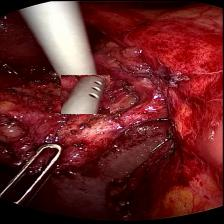Grasper: (1, 140, 64, 202)
Irrigator: (61, 74, 110, 113)
